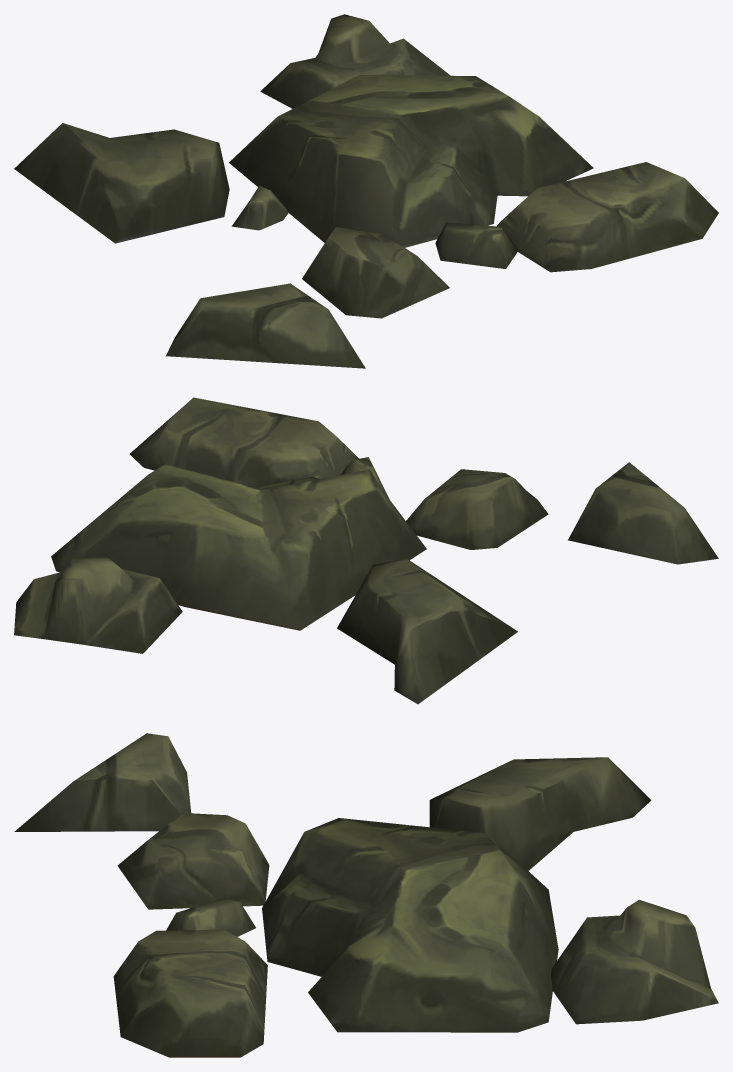
The model's file is mobile_rocks_03.fbx.
The picture shows the model from 3 angles, top to bottom: view 1: azimuth 30°, elevation 25°; view 2: azimuth 150°, elevation 25°; view 3: azimuth 270°, elevation 25°; orthographic projection. The views are drawn at different scales.
Visible parts, largest first — view 1: mobile_rocks_03; view 2: mobile_rocks_03; view 3: mobile_rocks_03.
Boxes of the visible parts, box(x1,y1,x2,y2) form: mobile_rocks_03: box(14, 14, 718, 368); mobile_rocks_03: box(14, 397, 718, 704); mobile_rocks_03: box(14, 733, 718, 1057).
Size of the model in its own units: 348 by 43.28 by 347.
